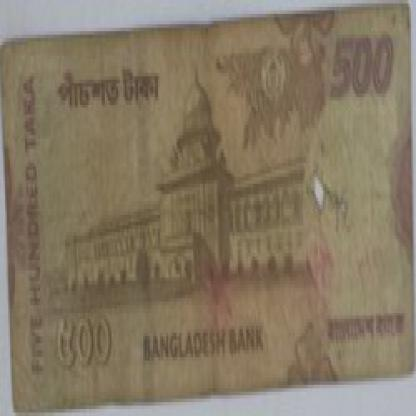500 taka: (52, 62, 184, 122), (50, 305, 131, 381)
